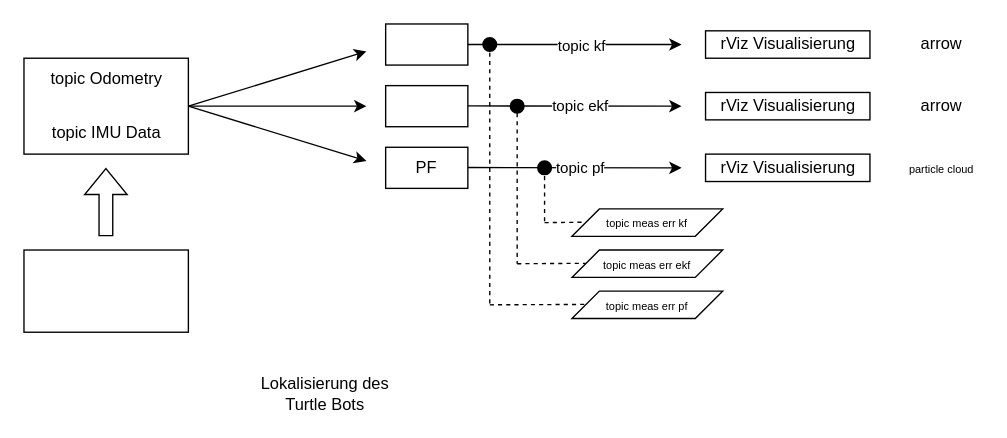
Some shapes in this 1007 by 438 pixel diagram are drawn without their labels. Each missing label, with the centre of its shape:
"EKF" goes at (426,105).
"KF" goes at (426,44).
"Turtle Bot" goes at (105,290).
